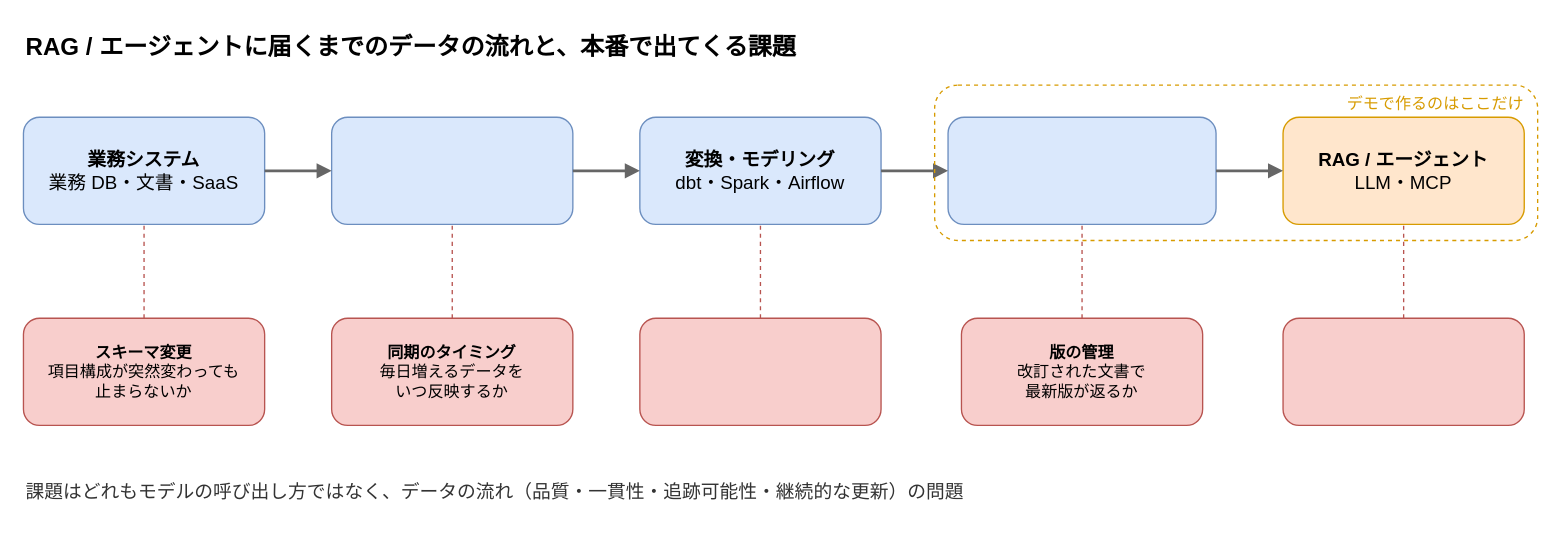
This 1561x541 diagram has some shape labels left out. Here are the shapes that lost their labels. From the top down, the centre of each, then its label:
At [451,170]: "取り込み ETL / ELT・Kafka".
At [1081,170]: "索引化 チャンク・埋め込み ベクトル DB".
At [760,371]: "再実行と重複 途中で落ちて再実行しても 重複しないか".
At [1403,371]: "権限 見てはいけない人に 機密資料を返さないか".
